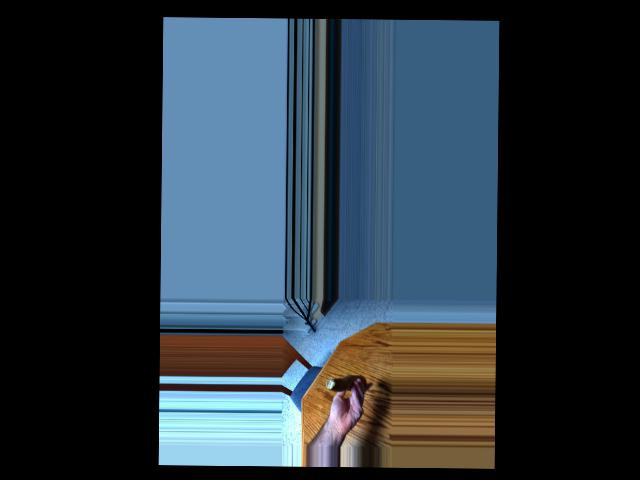sweet_potato: (332, 374, 364, 393)
